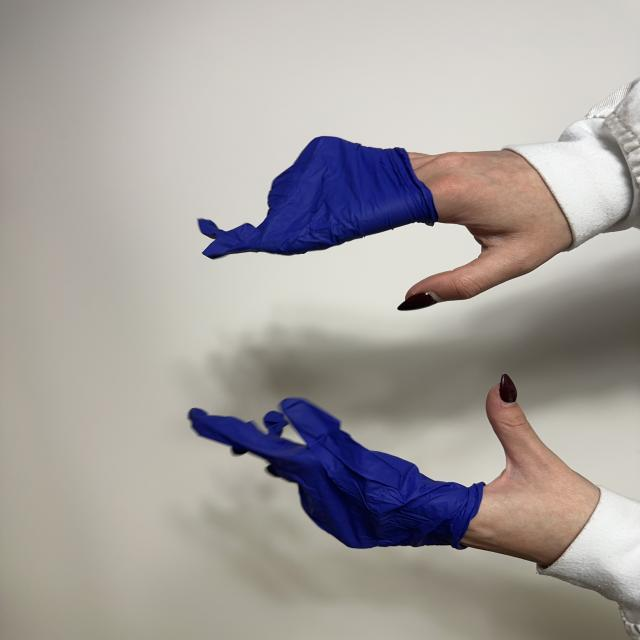glove_partial: (190, 374, 610, 573), (199, 137, 575, 310)
